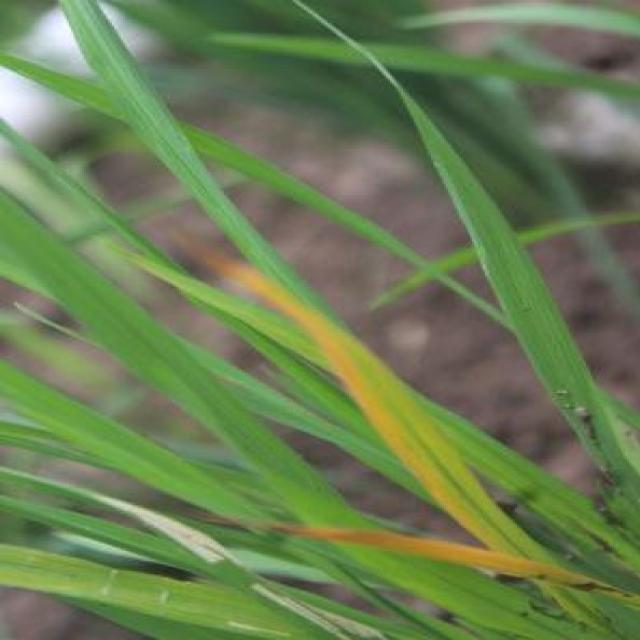Rice Tungro: (262, 519, 569, 575)
